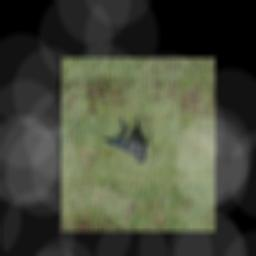Crow: (101, 114, 147, 163)
